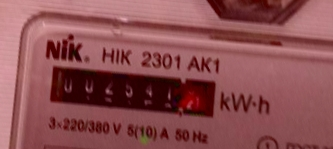0: (62, 70, 77, 92), (83, 70, 97, 92)
1: (163, 77, 177, 101)
2: (103, 71, 119, 95)
4: (144, 75, 157, 97)
5: (122, 74, 138, 98)
6: (185, 95, 197, 108)
screen: (37, 52, 231, 125)
